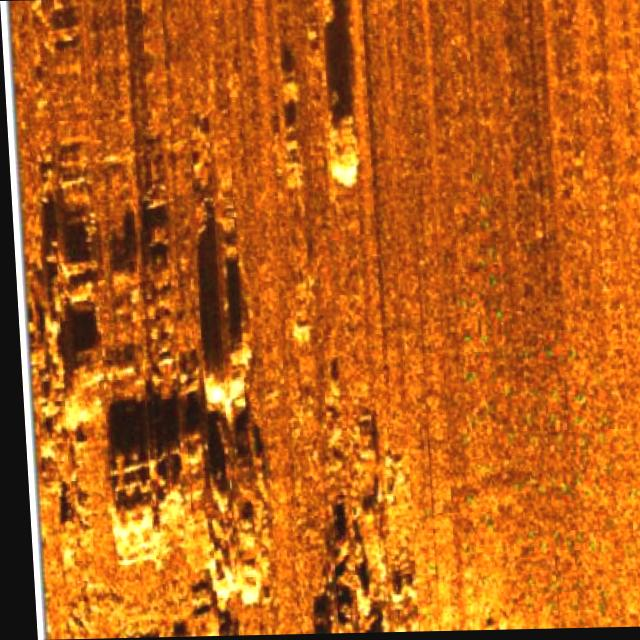bedrock group: (7, 0, 405, 638)
